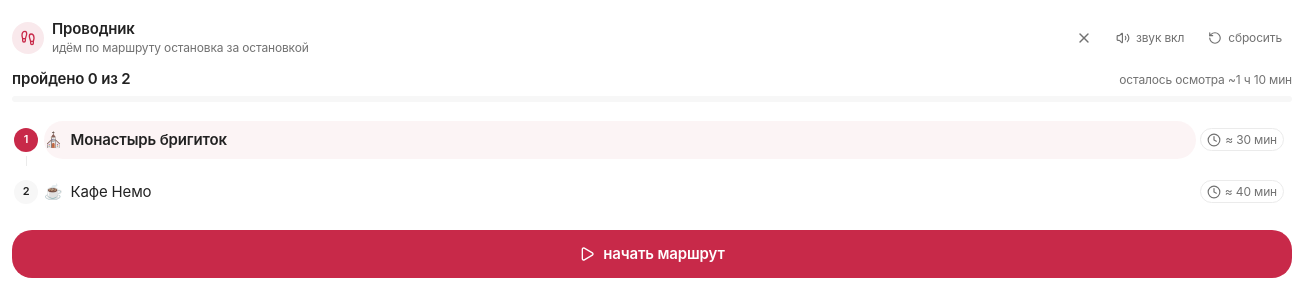
Scenario: GuidePanel › resets the walk on request
Click the button with test id "guide-stop-1".
click(149, 139)  # box [44, 121, 1196, 159]
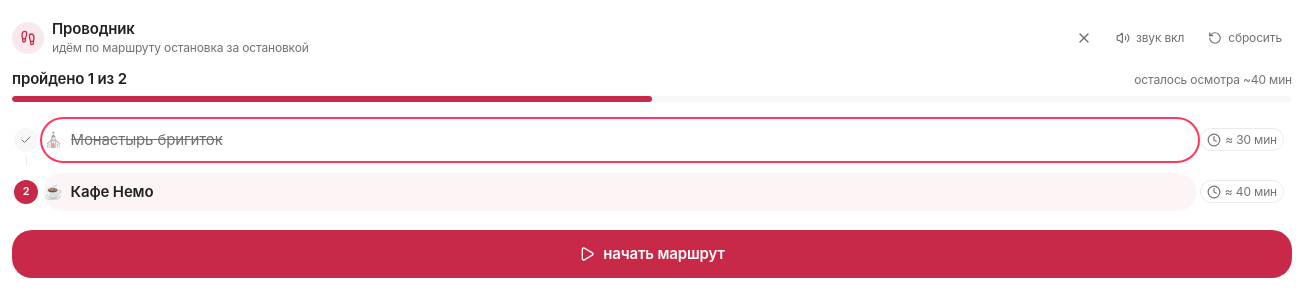
Click the button with test id "guide-stop-2".
click(112, 191)  # box [44, 173, 1196, 211]
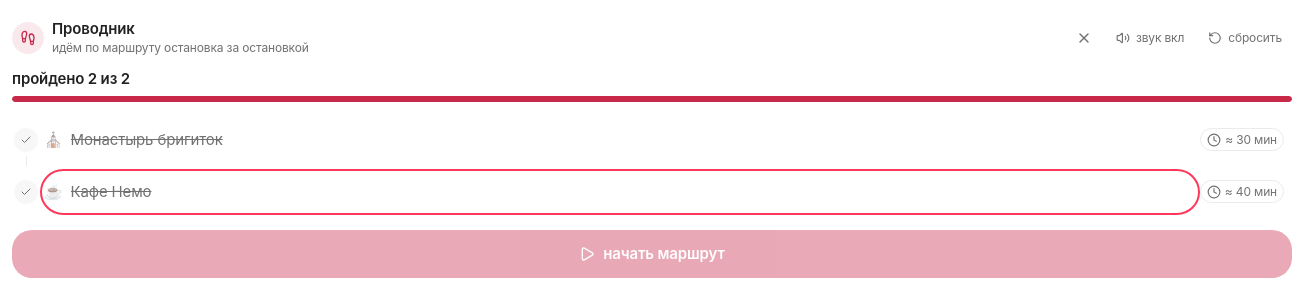
Expected: the text "пройдено 2 из 2" is shown, [12, 68, 130, 90]
Click the button "сбросить".
click(1245, 38)  # box [1198, 20, 1292, 56]
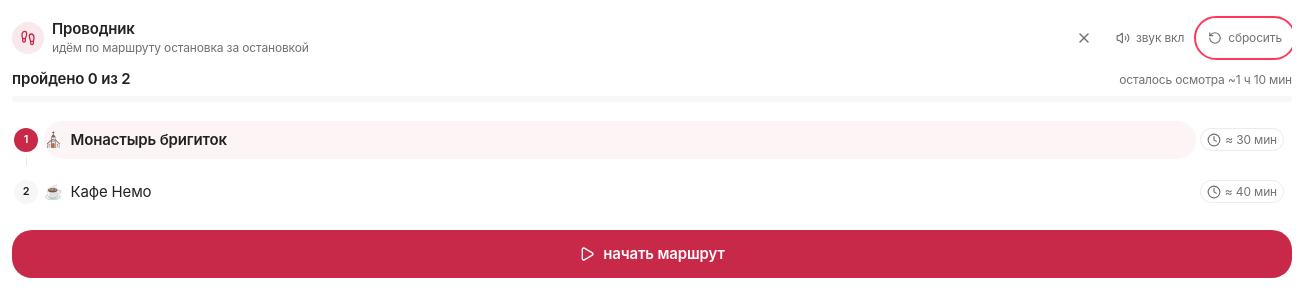
Expected: the text "пройдено 0 из 2" is shown, [12, 68, 130, 90]
